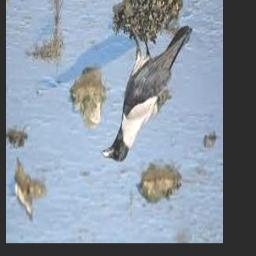Crow: (100, 25, 192, 163)
